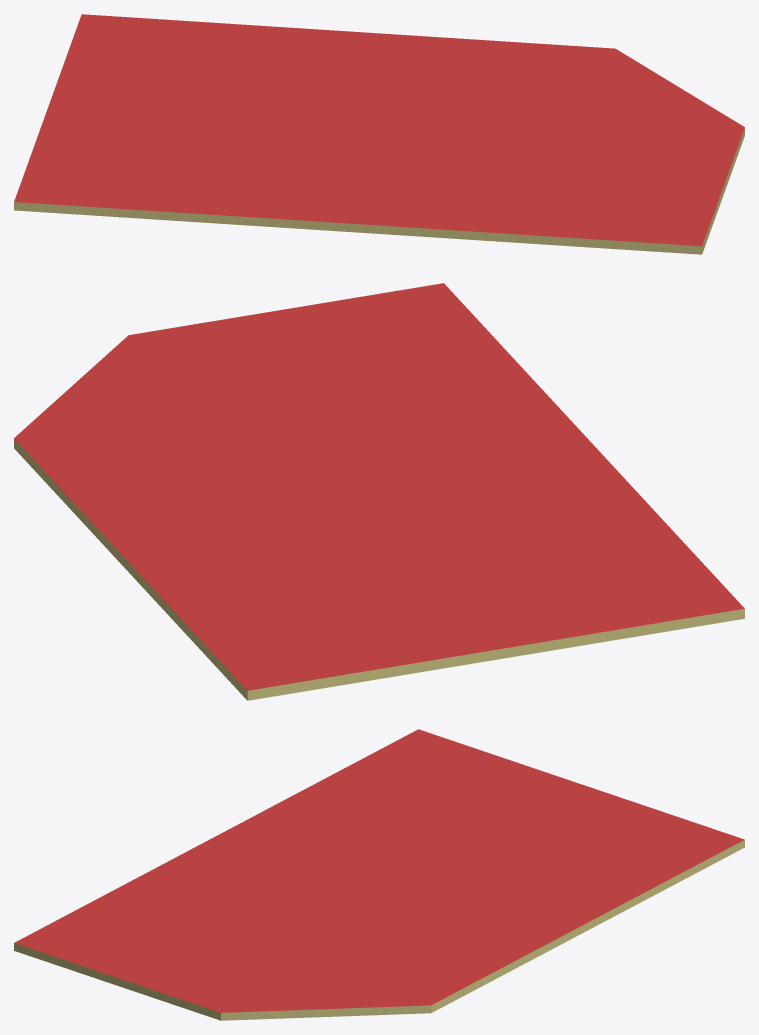
3 renders of one model, top to bottom at view 1: azimuth 30°, elevation 25°; view 2: azimuth 150°, elevation 25°; view 3: azimuth 270°, elevation 25°, orthographic. The views are drawn at different scales.
Bounding box in the file's own units: 7.72 × 8.41 × 0.1.
